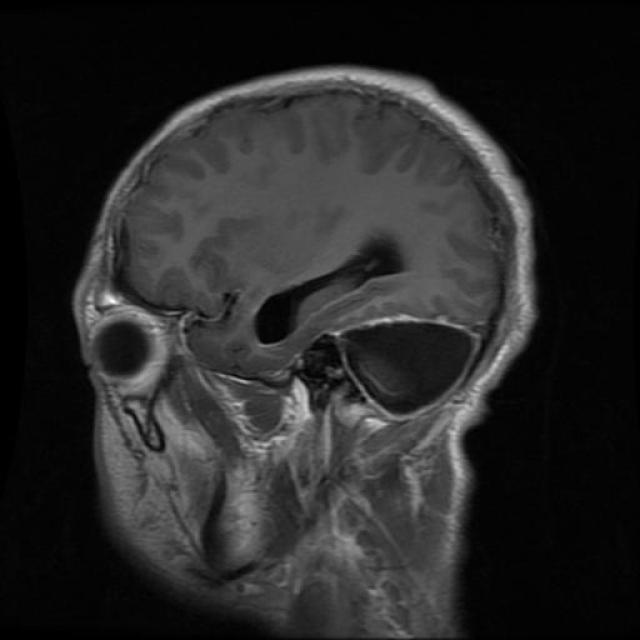brain_tumor: (342, 322, 472, 413)
